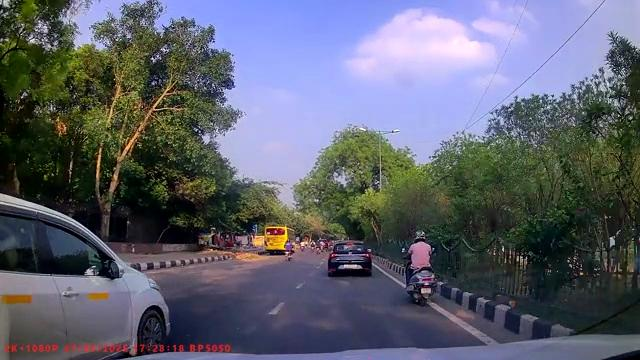motorcycle_with_helmet: (403, 230, 438, 307)
